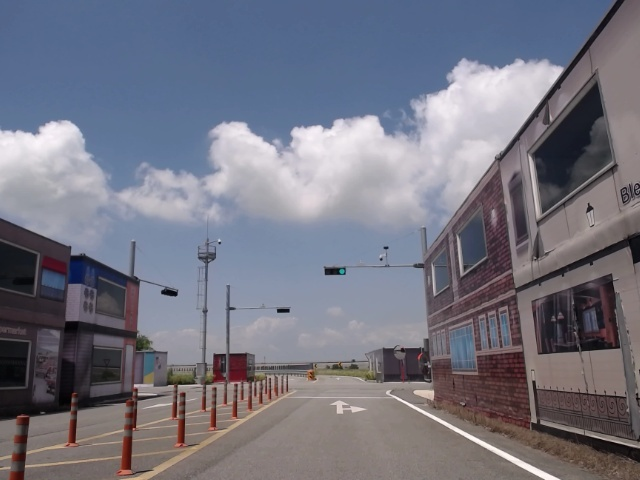green_3: (325, 267, 346, 275)
